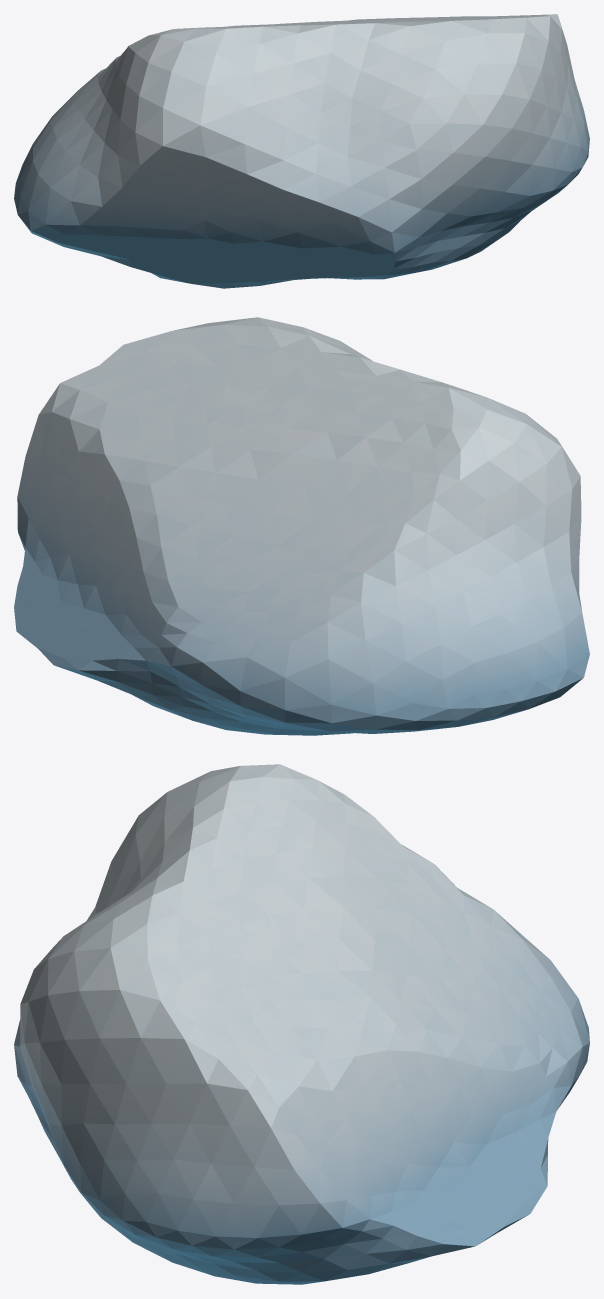
File: iceberg-dome.glb
3 renders of one model, top to bottom at view 1: azimuth 30°, elevation 25°; view 2: azimuth 150°, elevation 25°; view 3: azimuth 270°, elevation 25°, orthographic. The views are drawn at different scales.
Parts seen in each view (by area): view 1: iceberg-dome; view 2: iceberg-dome; view 3: iceberg-dome.
Part boxes in pixels (x1,y1,x2,y2): iceberg-dome: [14, 14, 589, 288]; iceberg-dome: [14, 317, 589, 735]; iceberg-dome: [14, 764, 589, 1284].
Bounding box in the file's own units: 12 × 6 × 9.
